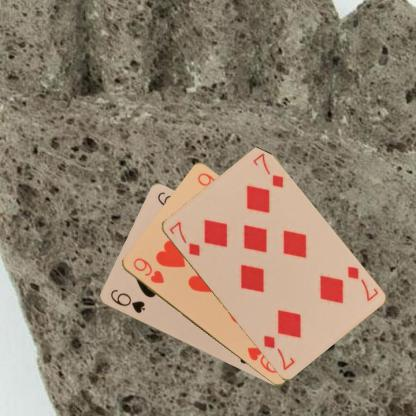6s: (108, 286, 146, 315)
7d: (166, 218, 202, 258), (344, 263, 379, 303)
9h: (130, 255, 165, 285)
